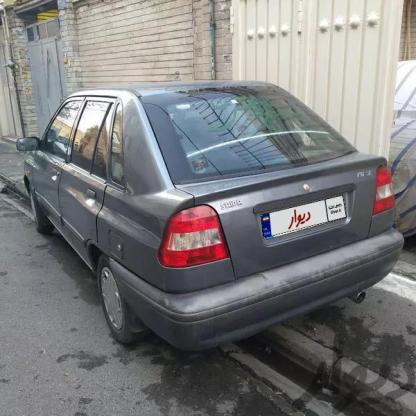Car: (17, 82, 403, 369)
